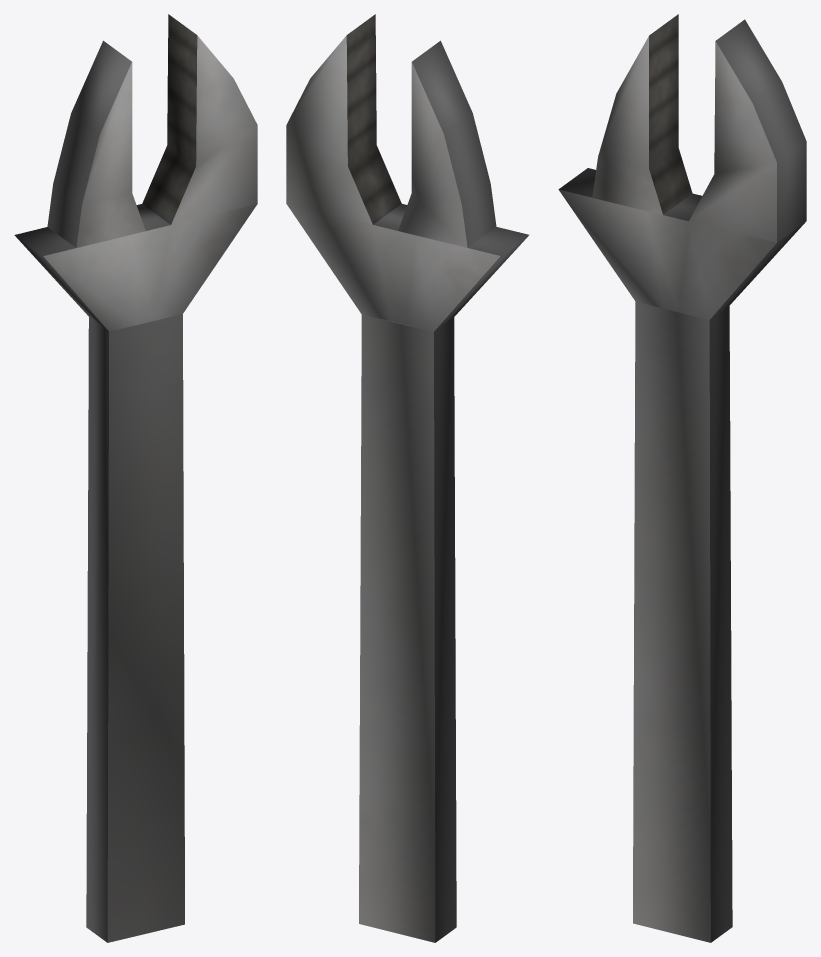
Rendered from MonkeyWrenchToken.fbx.
3 renders of one model, left to right at view 1: azimuth 30°, elevation 25°; view 2: azimuth 150°, elevation 25°; view 3: azimuth 330°, elevation 25°, orthographic.
Visible parts, largest first — view 1: Monkey Wrench Token; view 2: Monkey Wrench Token; view 3: Monkey Wrench Token.
Part boxes in pixels (bbox=[...]): Monkey Wrench Token: bbox=[14, 14, 257, 942]; Monkey Wrench Token: bbox=[286, 14, 528, 942]; Monkey Wrench Token: bbox=[558, 14, 806, 942].
Size of the model in its own units: 114 by 453 by 26.65.
